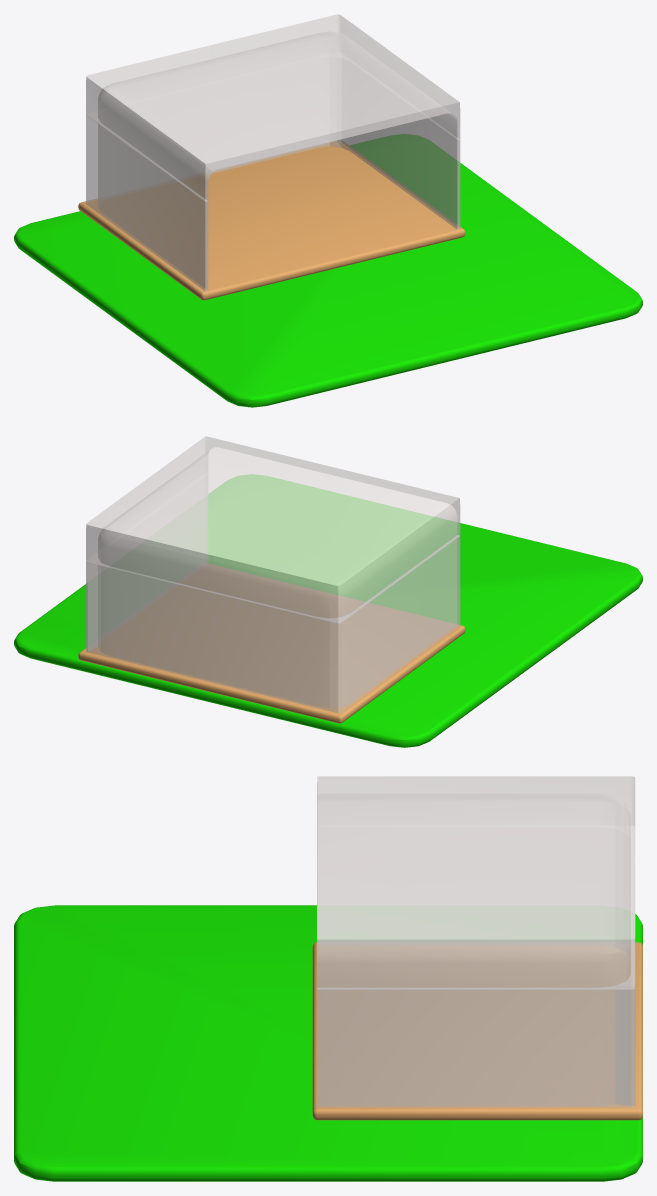
File: GARDEN_ENV.fbx
The picture shows the model from 3 angles, top to bottom: view 1: azimuth 30°, elevation 25°; view 2: azimuth 150°, elevation 25°; view 3: azimuth 270°, elevation 25°; orthographic projection. The views are drawn at different scales.
Parts seen in each view (by area): view 1: Cube, Cube.003, Cube.001, Cube.002, Cube.004; view 2: Cube, Cube.003, Cube.002, Cube.001, Cube.004; view 3: Cube, Cube.003, Cube.001, Cube.002, Cube.004.
Boxes of the visible parts, <box> form: Cube: <box>14,134,642,407</box>; Cube.003: <box>86,14,460,201</box>; Cube.001: <box>78,140,465,300</box>; Cube.002: <box>86,57,341,291</box>; Cube.004: <box>337,59,460,229</box>; Cube: <box>14,474,642,747</box>; Cube.003: <box>86,436,460,623</box>; Cube.002: <box>87,535,460,712</box>; Cube.001: <box>78,564,465,723</box>; Cube.004: <box>86,475,207,651</box>; Cube: <box>14,905,642,1181</box>; Cube.003: <box>317,776,635,989</box>; Cube.001: <box>312,942,642,1120</box>; Cube.002: <box>317,825,634,1105</box>; Cube.004: <box>317,986,635,1107</box>.
Bounding box in the file's own units: 40 × 13.54 × 40.
